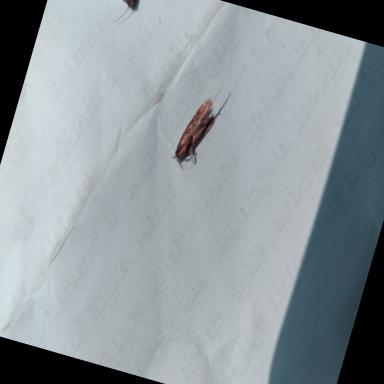pbw: (171, 75, 227, 170), (96, 0, 145, 31)
